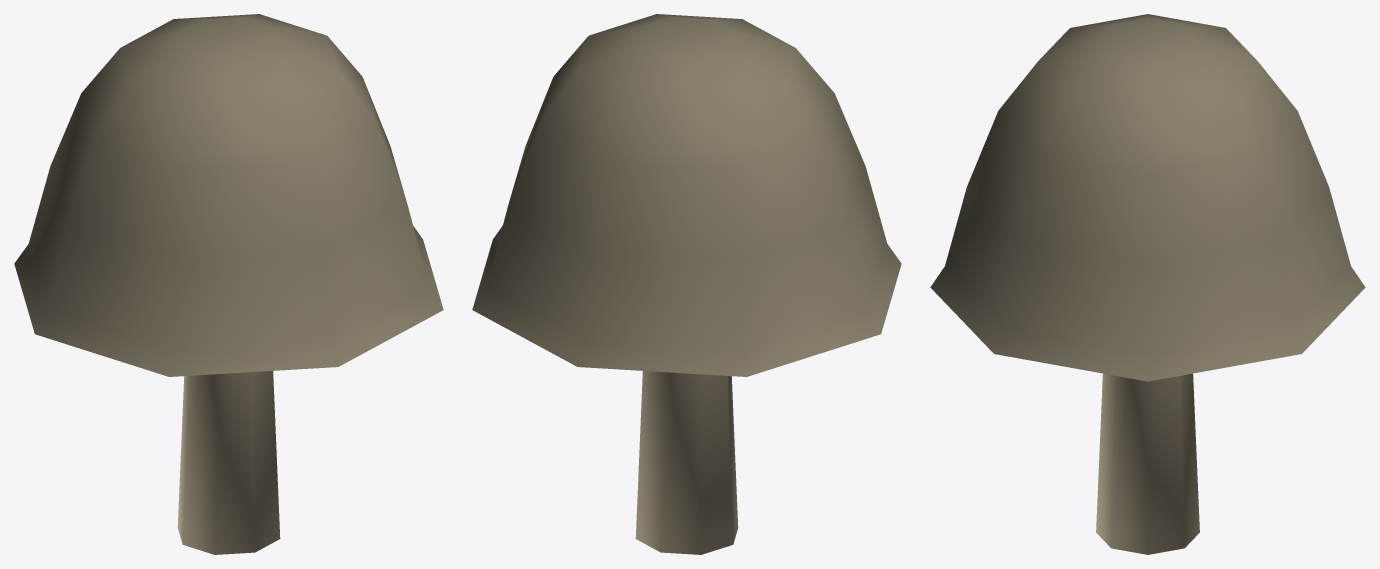
The model's file is Agaricus_Atramentarius_big.fbx.
The picture shows the model from 3 angles, left to right: view 1: azimuth 30°, elevation 25°; view 2: azimuth 150°, elevation 25°; view 3: azimuth 270°, elevation 25°; orthographic projection.
Visible parts, largest first — view 1: Agaricus_Atramentarius_big; view 2: Agaricus_Atramentarius_big; view 3: Agaricus_Atramentarius_big.
Boxes of the visible parts, bbox=[...] form: Agaricus_Atramentarius_big: bbox=[14, 14, 443, 554]; Agaricus_Atramentarius_big: bbox=[472, 14, 901, 554]; Agaricus_Atramentarius_big: bbox=[930, 14, 1365, 554].
Bounding box in the file's own units: 28.66 × 34.99 × 28.
